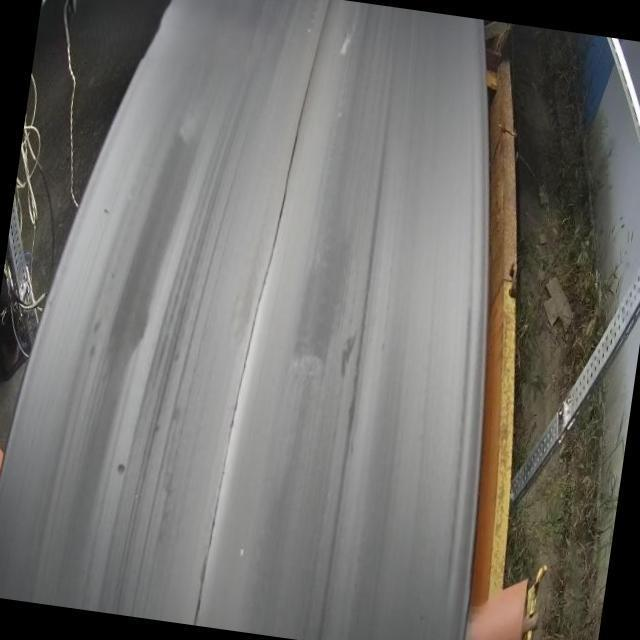Tear: (191, 0, 332, 629)
